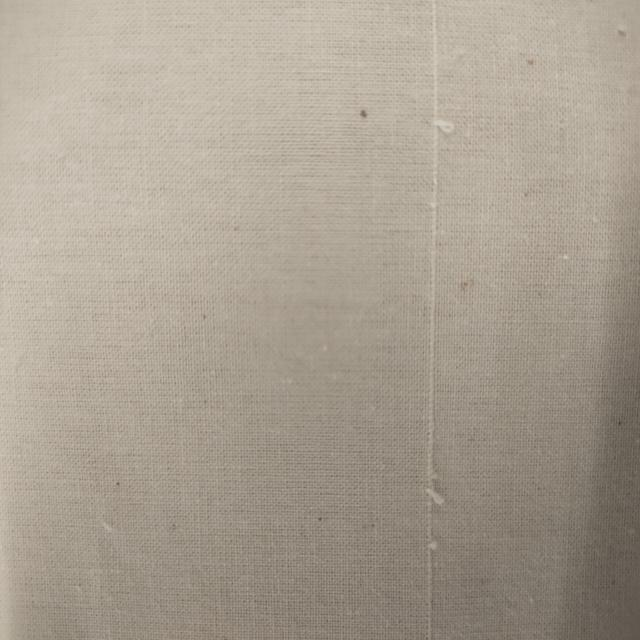stains: (399, 12, 481, 640)
